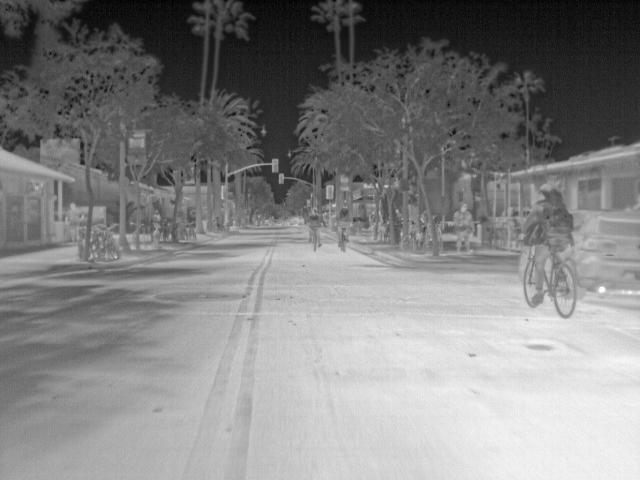car: (575, 209, 639, 301), (289, 214, 302, 225), (509, 206, 521, 216)
person: (522, 181, 573, 304), (452, 202, 475, 256), (64, 199, 85, 242), (336, 197, 350, 245), (306, 206, 321, 246), (150, 210, 161, 235), (393, 207, 403, 221), (368, 209, 375, 222), (380, 211, 386, 226)
